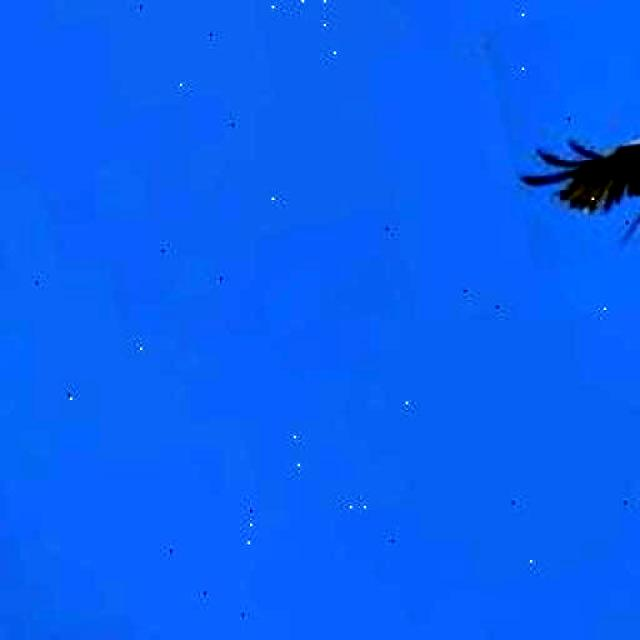airplane: (484, 0, 640, 272)
